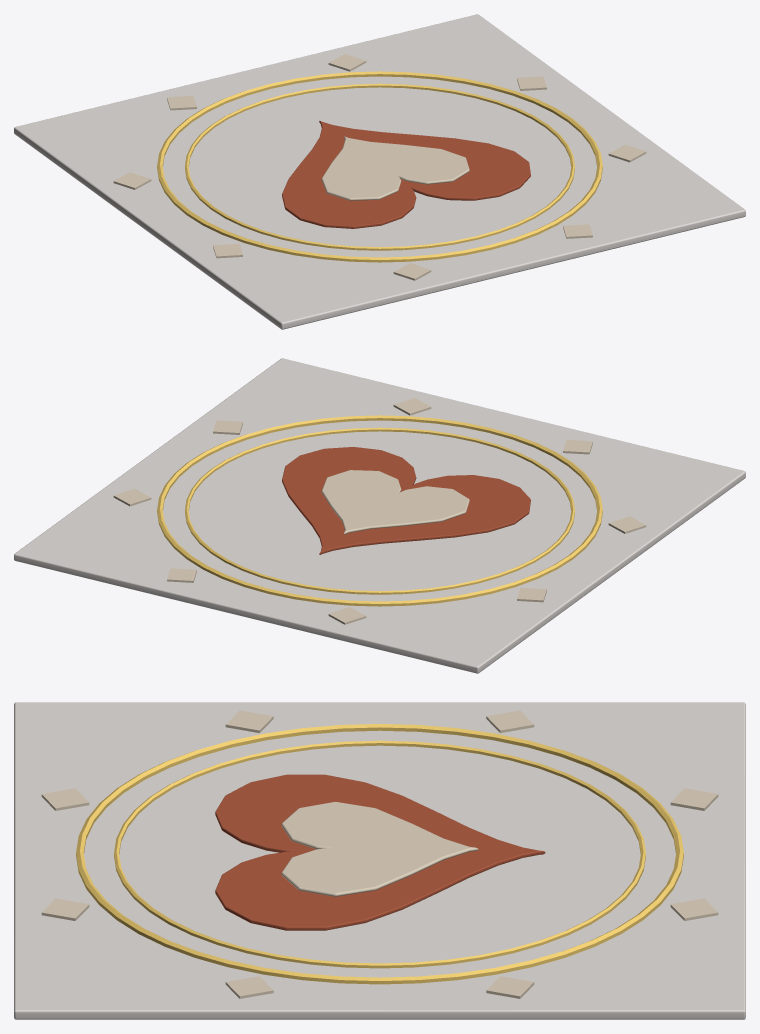
File: floor_medallion.glb
3 renders of one model, top to bottom at view 1: azimuth 30°, elevation 25°; view 2: azimuth 150°, elevation 25°; view 3: azimuth 270°, elevation 25°, orthographic. The views are drawn at different scales.
Visible parts, largest first — view 1: floor_medallion; view 2: floor_medallion; view 3: floor_medallion.
Part boxes in pixels (box(x1,y1,x2,y2)): floor_medallion: box(14, 14, 745, 329); floor_medallion: box(14, 358, 745, 673); floor_medallion: box(14, 702, 745, 1019).
Bounding box in the file's own units: 2 × 0.056 × 2.
